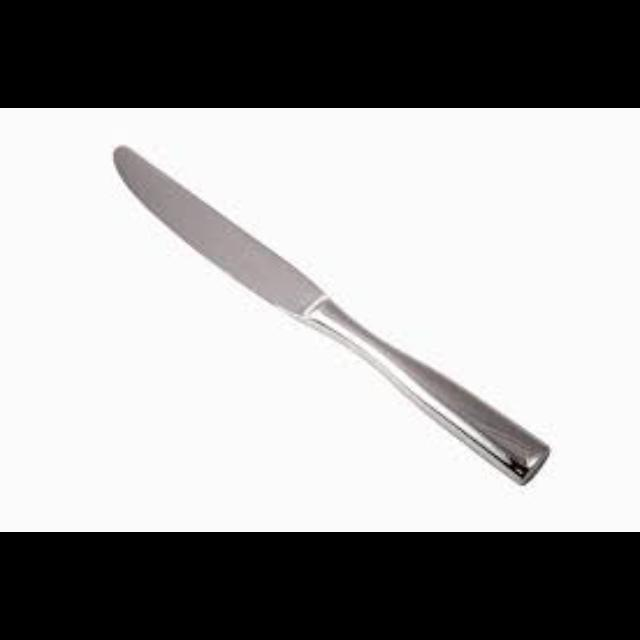knife: (111, 142, 549, 486)
